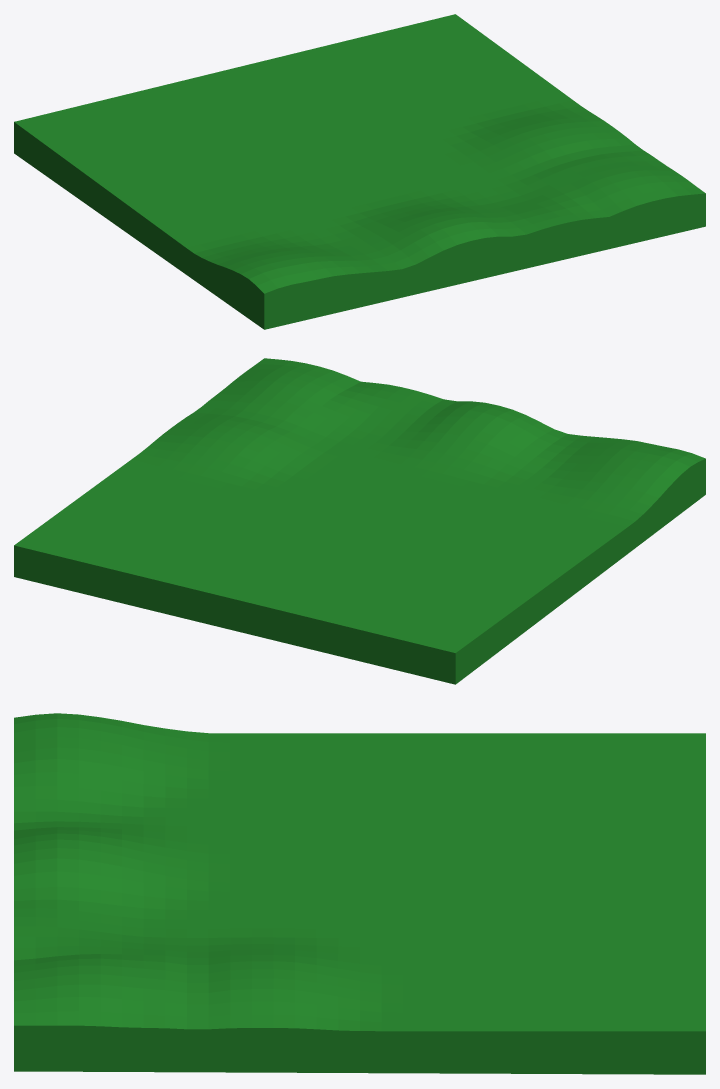
File: Level3-Area4.fbx
3 renders of one model, top to bottom at view 1: azimuth 30°, elevation 25°; view 2: azimuth 150°, elevation 25°; view 3: azimuth 270°, elevation 25°, orthographic. The views are drawn at different scales.
Visible parts, largest first — view 1: Cube.179; view 2: Cube.179; view 3: Cube.179.
Boxes of the visible parts, x1=… form: Cube.179: x1=14, y1=14, x2=705, y2=329; Cube.179: x1=14, y1=358, x2=705, y2=684; Cube.179: x1=14, y1=713, x2=705, y2=1074.
Bounding box in the file's own units: 32535 × 3493 × 31954.
